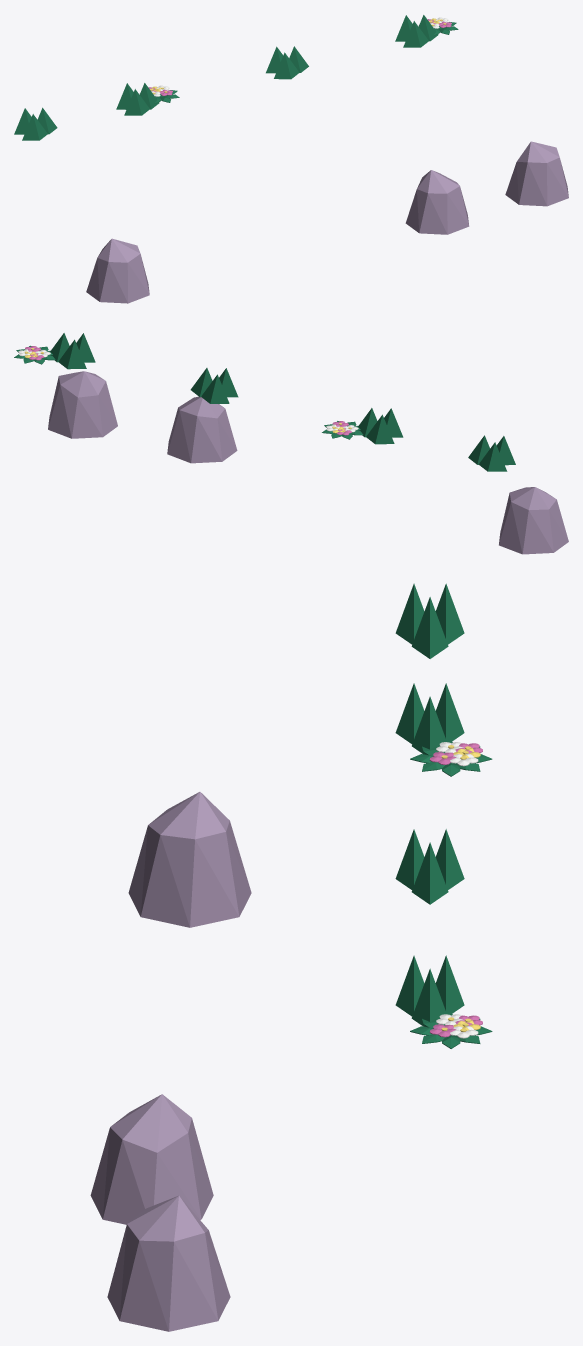
3 views of the same model, one above another, from view 1: azimuth 30°, elevation 25°; view 2: azimuth 150°, elevation 25°; view 3: azimuth 270°, elevation 25° (orthographic). The views are drawn at different scales.
Visible parts, largest first — view 1: 岸边独立植物与散石.001; view 2: 岸边独立植物与散石.001; view 3: 岸边独立植物与散石.001.
Part boxes in pixels (x1,y1,x2,y2): 岸边独立植物与散石.001: (14,15,568,303); 岸边独立植物与散石.001: (14,333,568,554); 岸边独立植物与散石.001: (90,583,492,1331).
Size of the model in its own units: 2.66 by 0.7515 by 0.9542.
